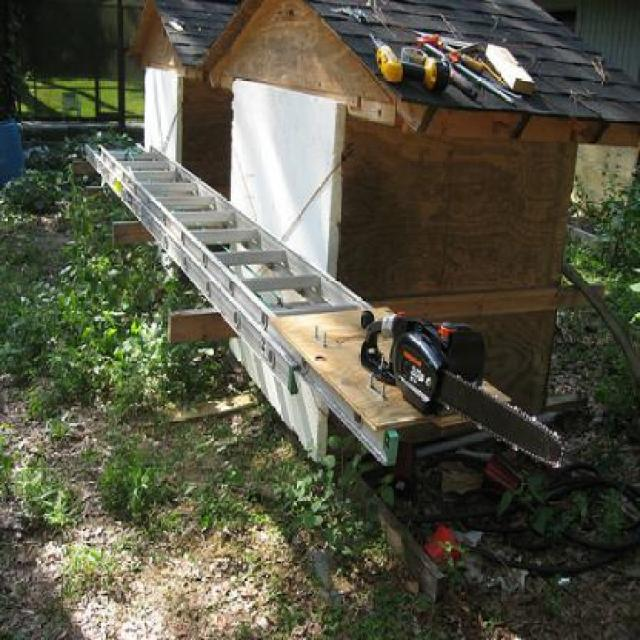Chainsaw: (359, 309, 563, 466)
